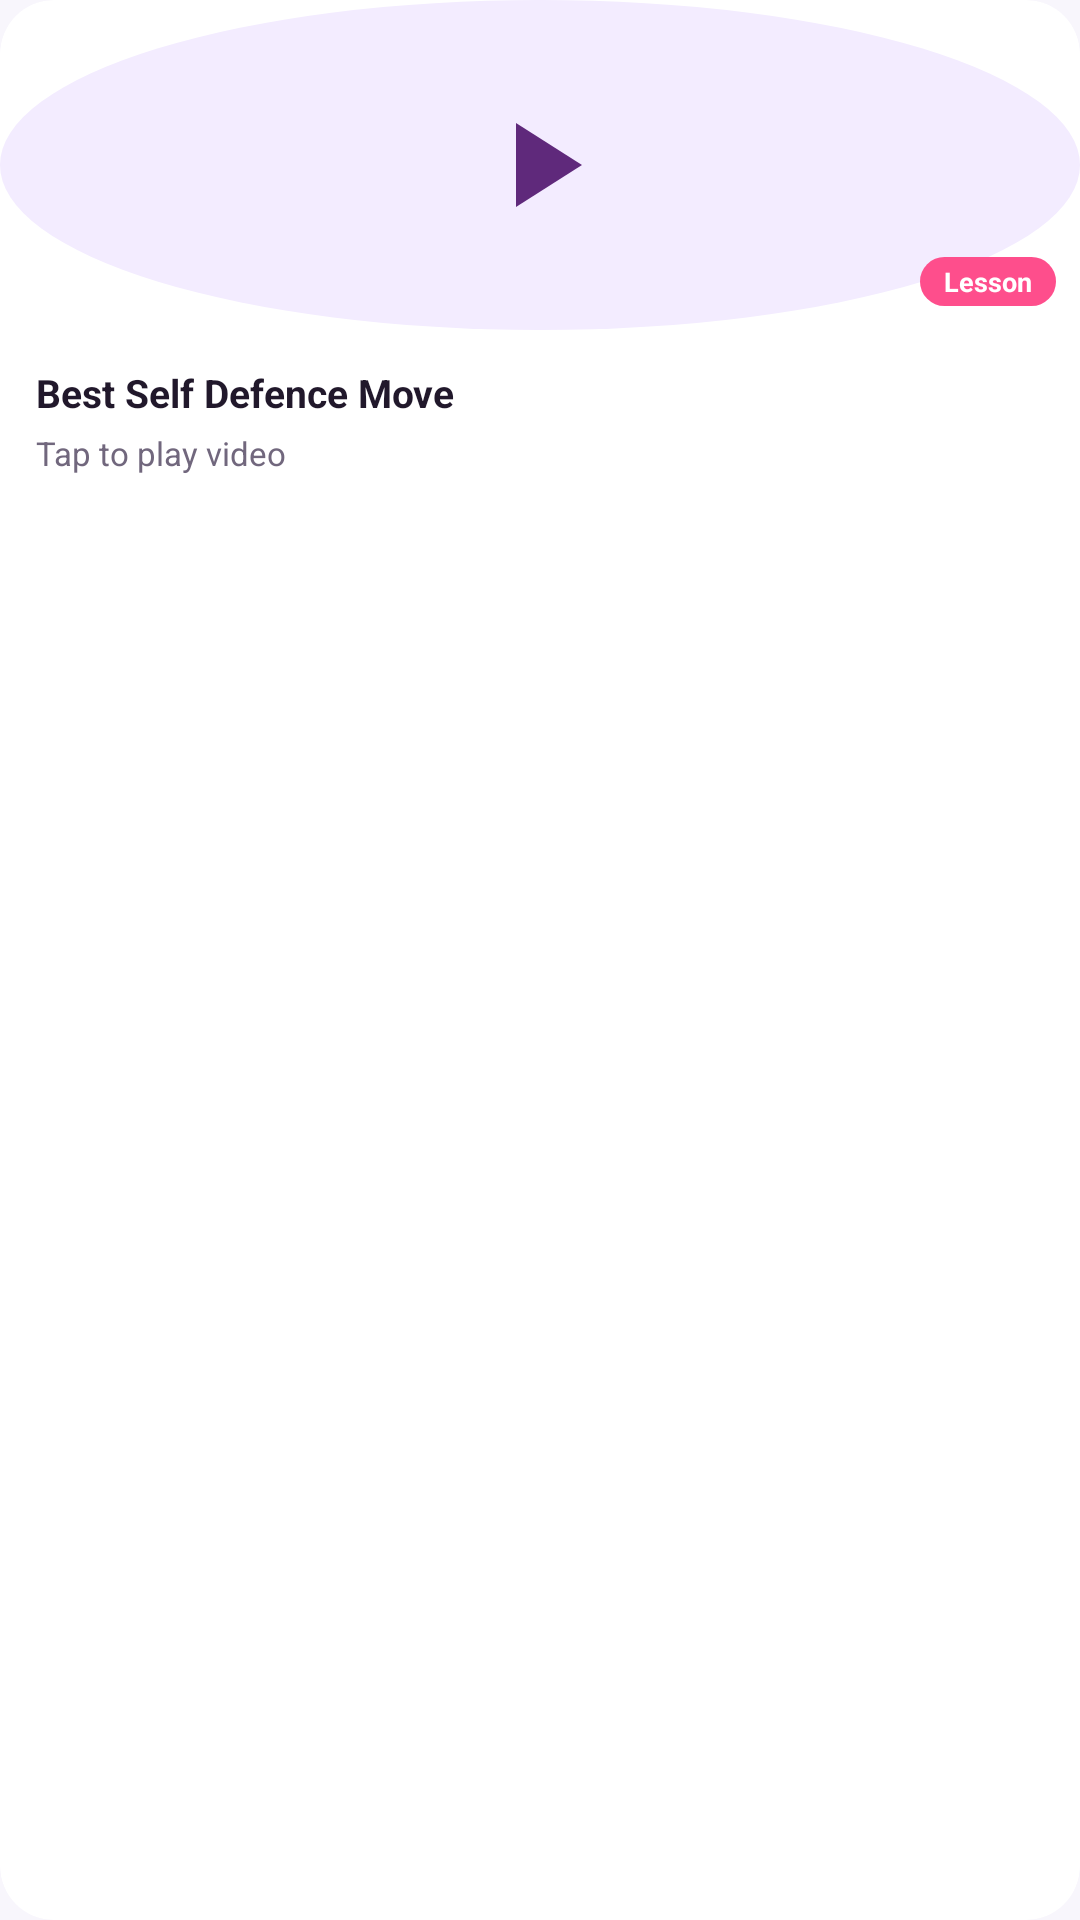

Icons on this 1080 x 1920 Android screen, each with its box as (x1,y1,x2,y2):
play: (516,123,582,207)
